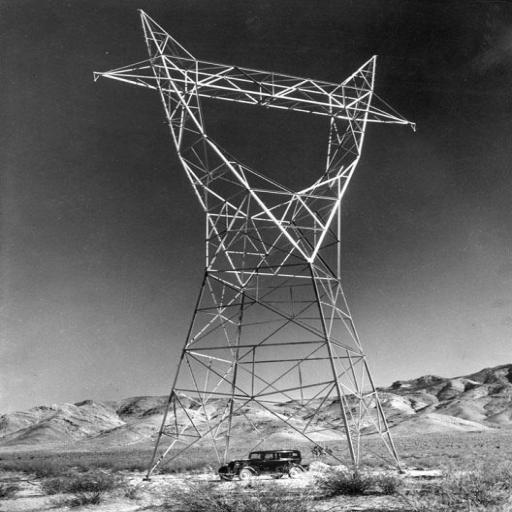wt_5: (88, 5, 419, 474)
